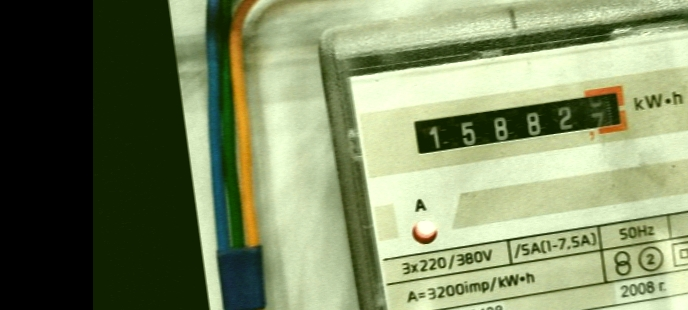1: (426, 123, 443, 153)
2: (555, 104, 575, 134)
5: (458, 119, 479, 148)
7: (588, 110, 607, 129)
8: (490, 115, 510, 145), (524, 110, 542, 139)
screen: (398, 77, 639, 170)
